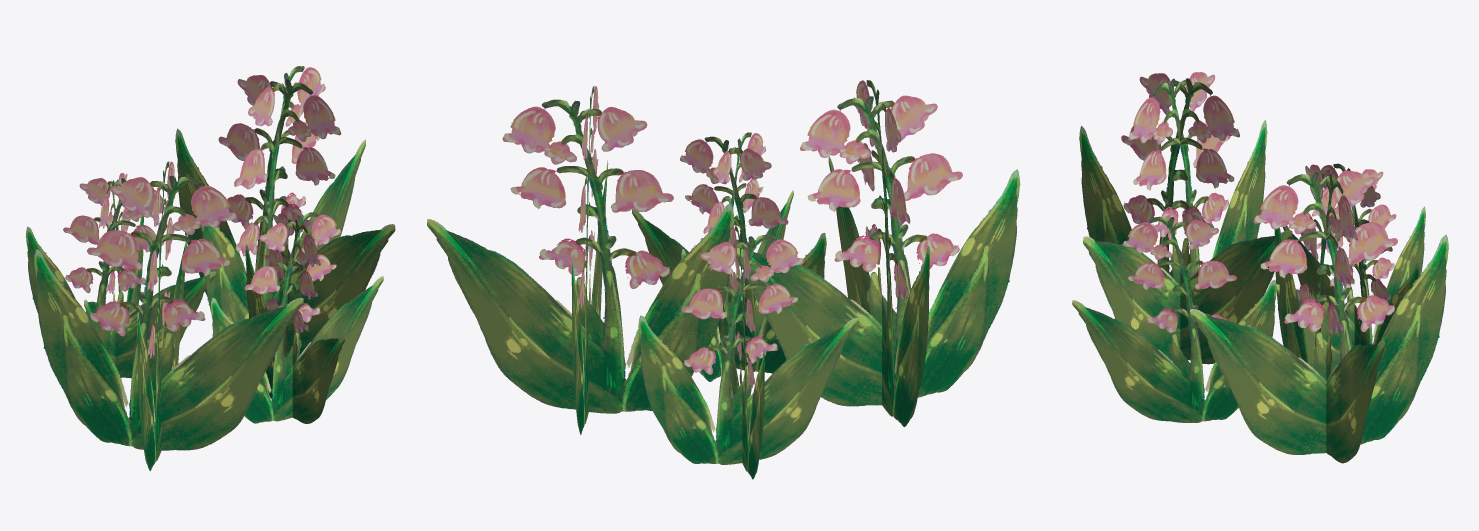
Rendered from lilies_bush.fbx.
3 renders of one model, left to right at view 1: azimuth 30°, elevation 25°; view 2: azimuth 150°, elevation 25°; view 3: azimuth 270°, elevation 25°, orthographic. The views are drawn at different scales.
Parts seen in each view (by area): view 1: Без имени-1.005; view 2: Без имени-1.005; view 3: Без имени-1.005.
Boxes of the visible parts, box(x1,y1,x2,y2) form: Без имени-1.005: box(25, 66, 395, 470); Без имени-1.005: box(427, 80, 1020, 479); Без имени-1.005: box(1072, 72, 1448, 463).
Size of the model in its own units: 196 by 138 by 164.
